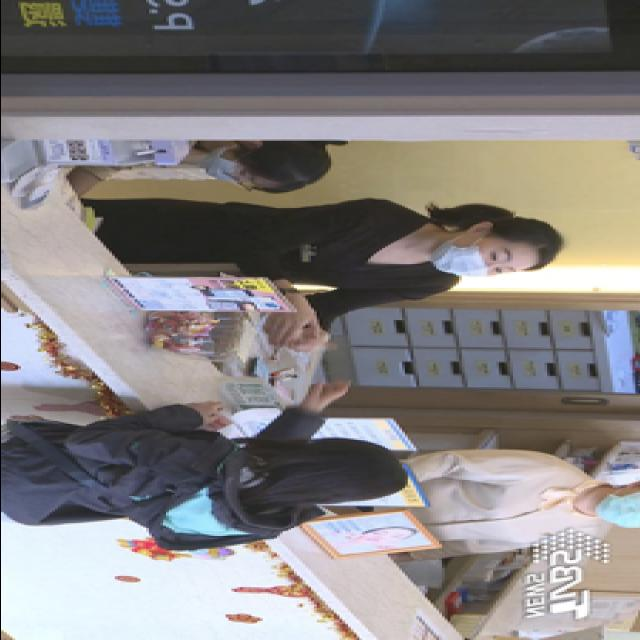mask: (426, 238, 520, 278), (199, 149, 267, 192)
